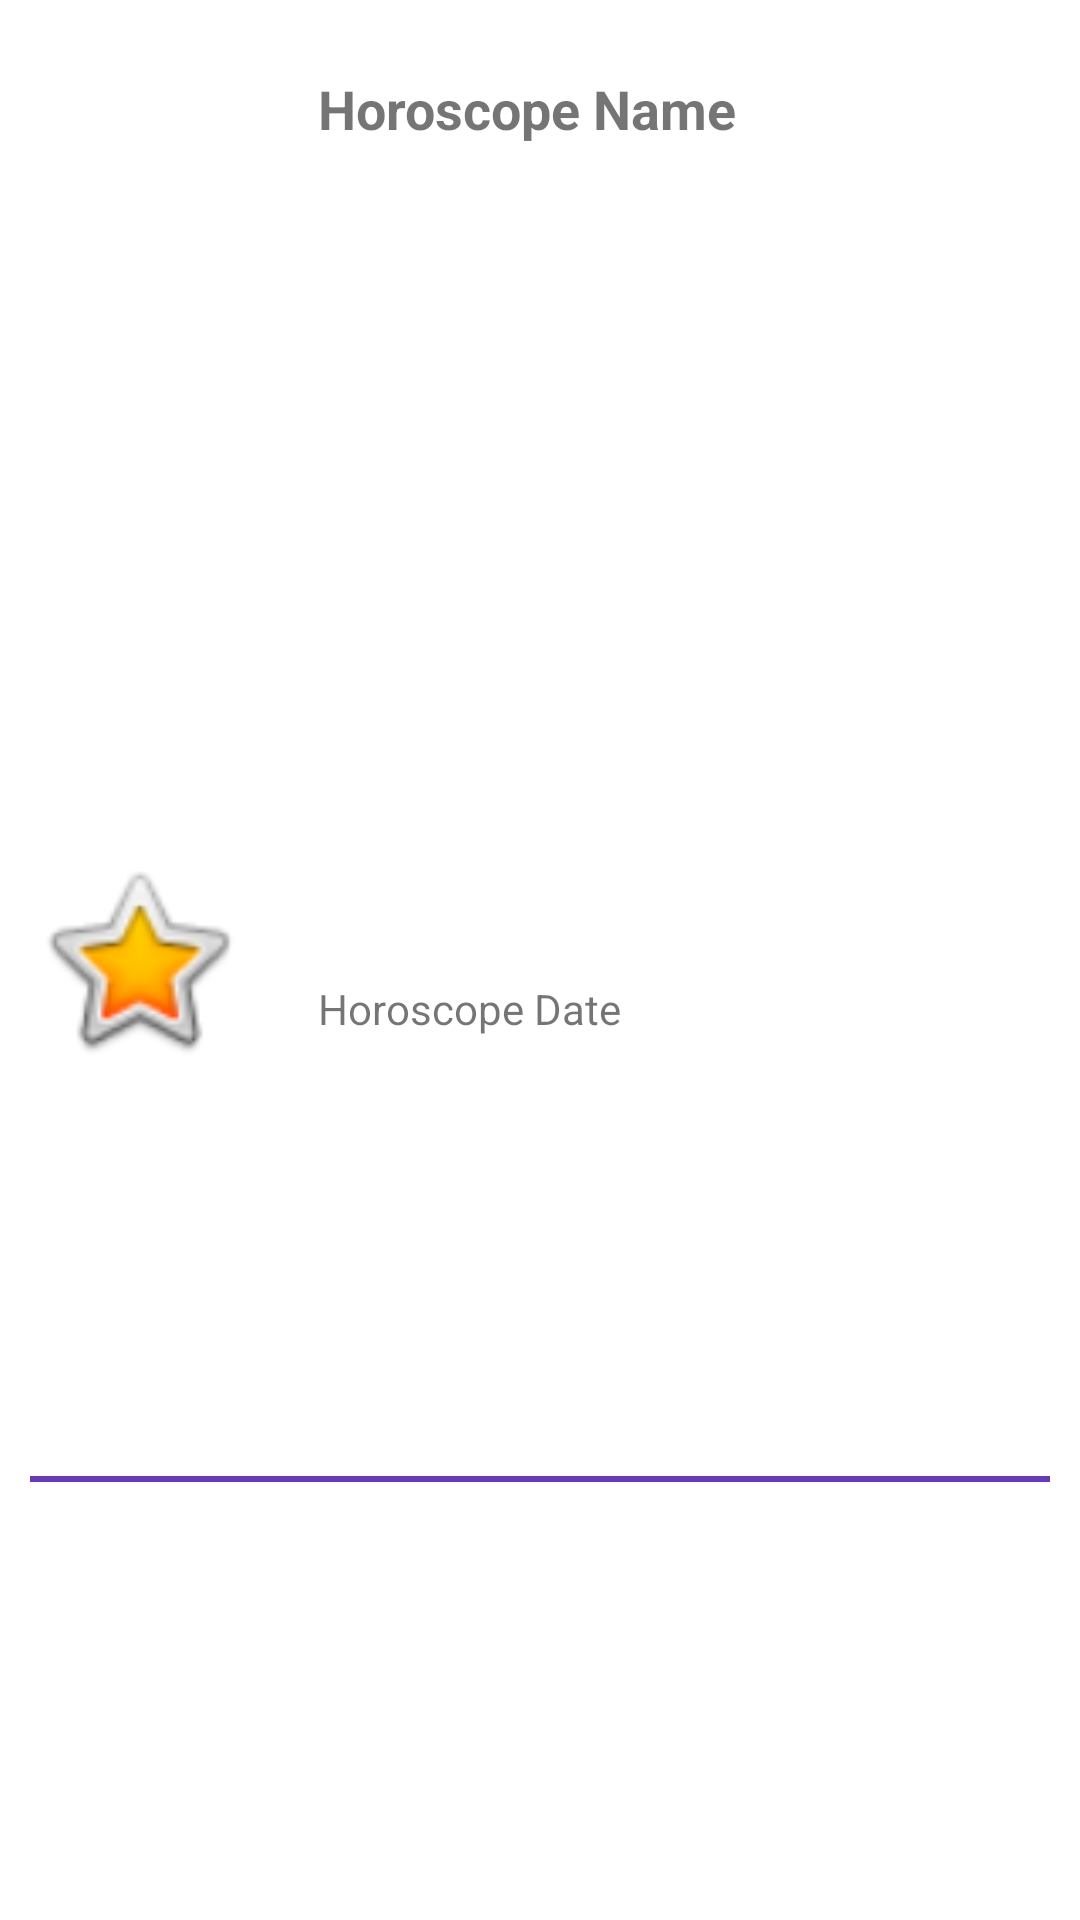

Icons on this 1080×1920 Android screen, each with the point to tap as (x=x, y=y):
star on: (x=139, y=962)
